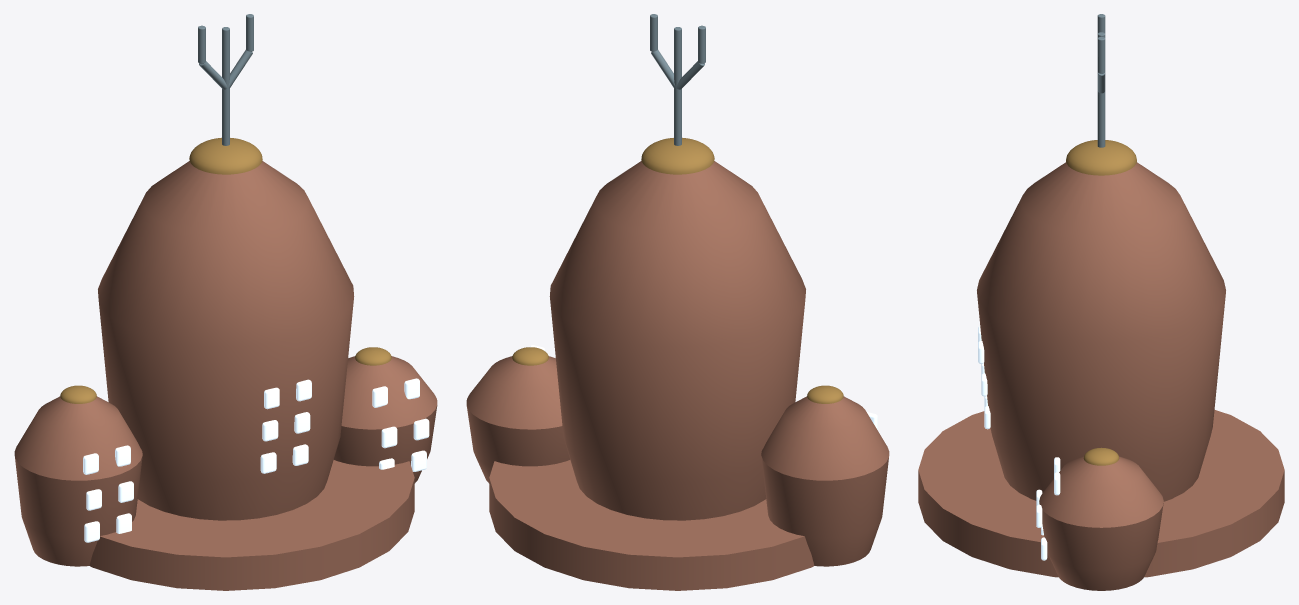
3 views of the same model, side by side, from view 1: azimuth 30°, elevation 25°; view 2: azimuth 150°, elevation 25°; view 3: azimuth 270°, elevation 25° (orthographic). The views are drawn at different scales.
Parts seen in each view (by area): view 1: Bulb shaped chamber, Foundation drum, Bulb shaped chamber.002, Bulb shaped chamber.001, Tower crown, Aerial stem, Tower crown.001, Tower crown.002; view 2: Bulb shaped chamber, Foundation drum, Bulb shaped chamber.002, Bulb shaped chamber.001, Tower crown, Aerial stem, Tower crown.001, Tower crown.002; view 3: Bulb shaped chamber, Foundation drum, Bulb shaped chamber.001, Tower crown, Aerial stem, Tower crown.001.
Boxes of the visible parts, bbox=[...] form: Bulb shaped chamber: bbox=[98, 161, 354, 520]; Foundation drum: bbox=[89, 460, 414, 590]; Bulb shaped chamber.002: bbox=[14, 396, 142, 566]; Bulb shaped chamber.001: bbox=[334, 356, 437, 483]; Tower crown: bbox=[189, 137, 262, 174]; Aerial stem: bbox=[222, 27, 229, 145]; Tower crown.001: bbox=[355, 347, 391, 365]; Tower crown.002: bbox=[60, 385, 96, 403]; Bulb shaped chamber: bbox=[549, 161, 805, 520]; Foundation drum: bbox=[489, 460, 814, 590]; Bulb shaped chamber.002: bbox=[761, 396, 889, 566]; Bulb shaped chamber.001: bbox=[466, 356, 569, 483]; Tower crown: bbox=[641, 137, 714, 174]; Aerial stem: bbox=[674, 27, 681, 145]; Tower crown.001: bbox=[512, 347, 548, 365]; Tower crown.002: bbox=[807, 385, 843, 403]; Bulb shaped chamber: bbox=[977, 162, 1225, 501]; Foundation drum: bbox=[918, 410, 1284, 577]; Bulb shaped chamber.001: bbox=[1039, 456, 1163, 590]; Tower crown: bbox=[1066, 140, 1136, 175]; Aerial stem: bbox=[1097, 32, 1105, 147]; Tower crown.001: bbox=[1083, 447, 1119, 465].
Size of the model in its own units: 2.53 by 2.92 by 2.04.
